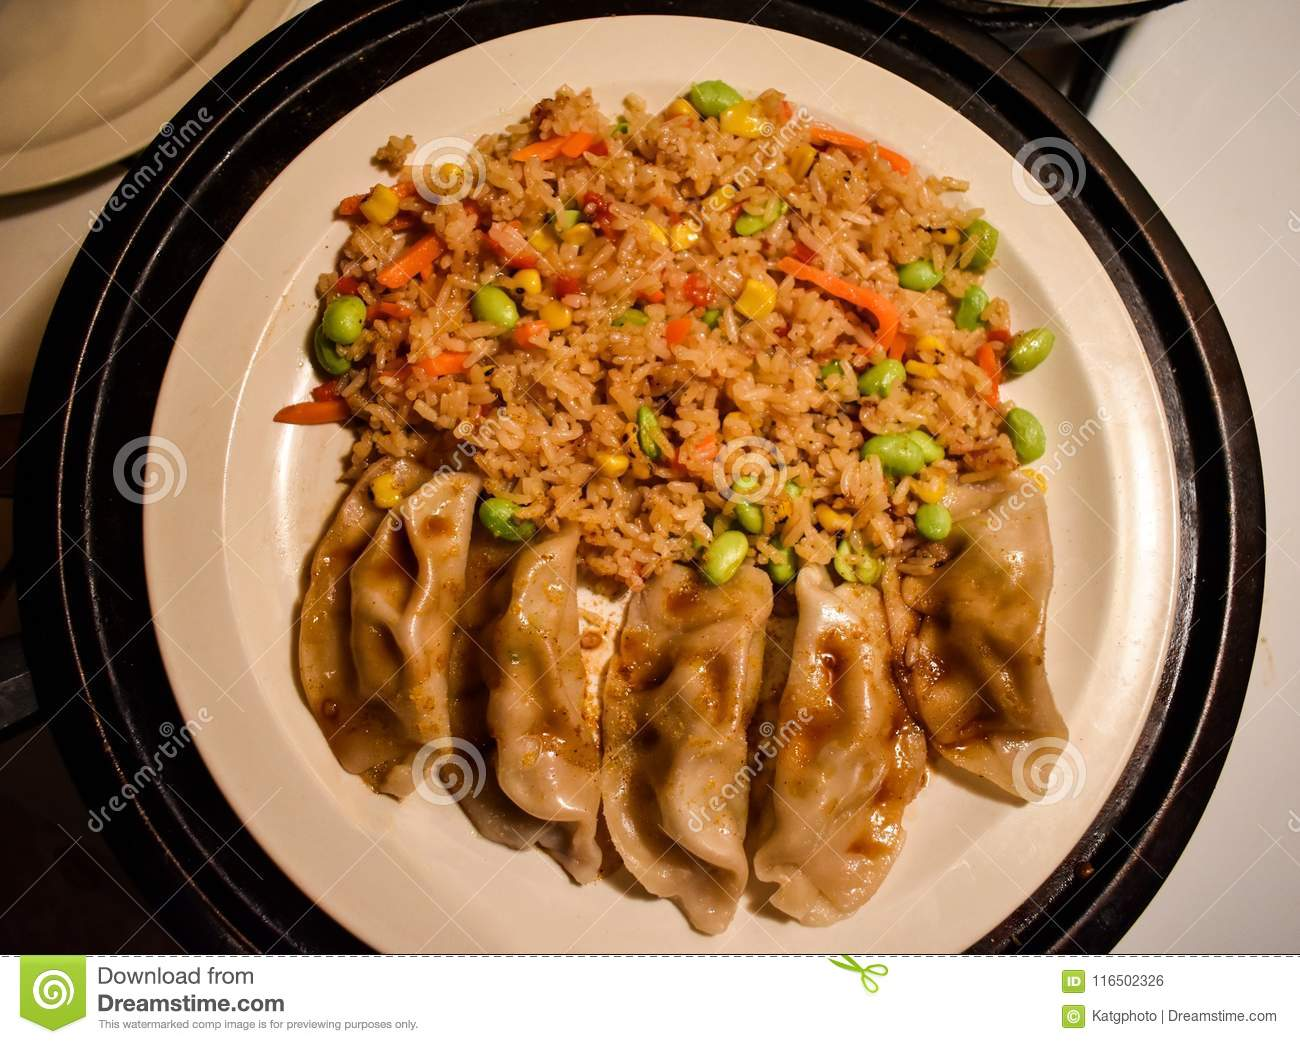fried_dumplings: (620, 587, 747, 884), (759, 621, 906, 876), (919, 491, 1043, 787), (318, 475, 439, 774), (453, 559, 576, 843)
